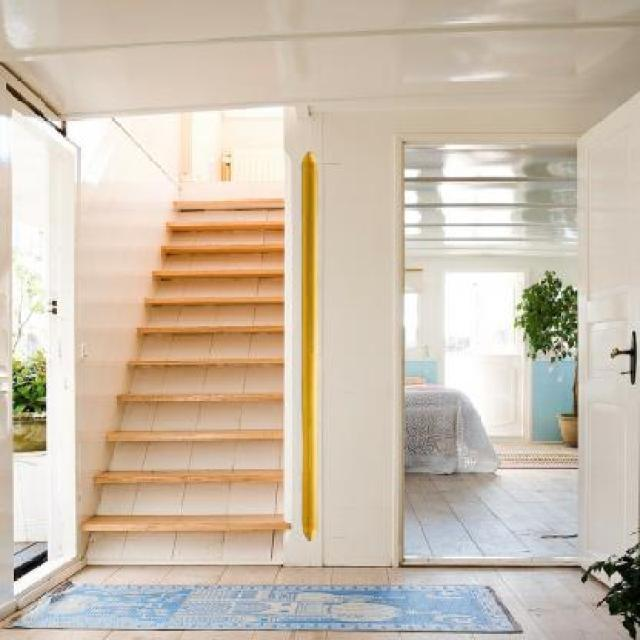stair: (47, 145, 367, 578)
